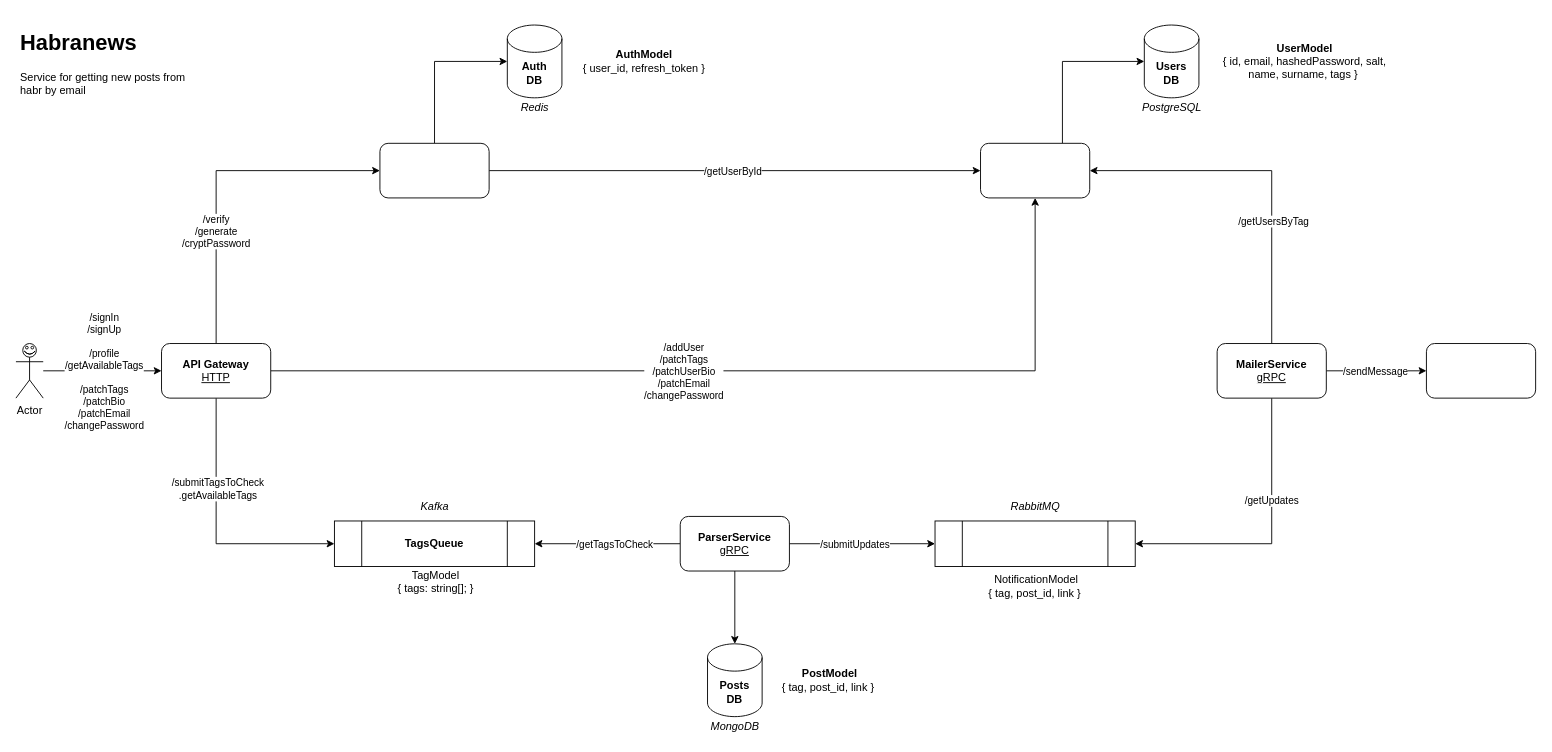
The diagram is 1552 pixels wide and 752 high, and some of its shapes have lost their labels. Here are the shapes that lost their labels. From the top down, the box of each, then its label:
(379, 142, 489, 198): AuthService gRPC
(980, 142, 1090, 198): UserService gRPC
(1426, 343, 1536, 398): SMTPService
(934, 520, 1135, 566): NotificationsQueue
